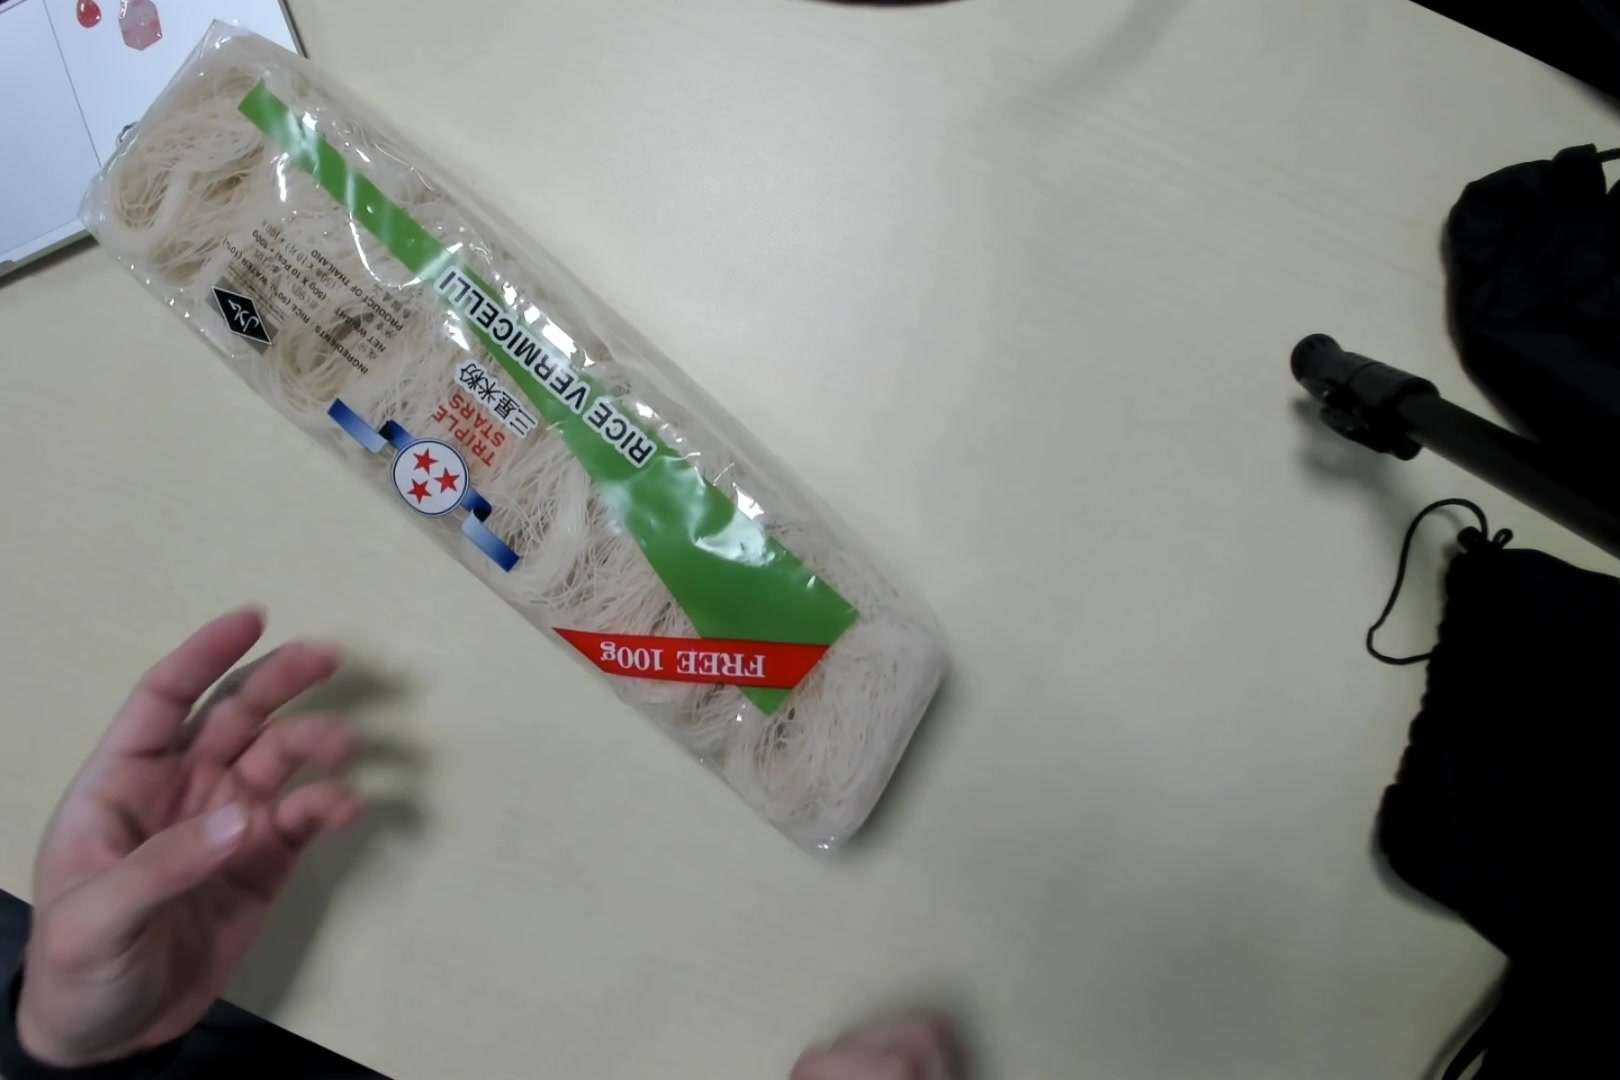d: (102, 27, 939, 871)
